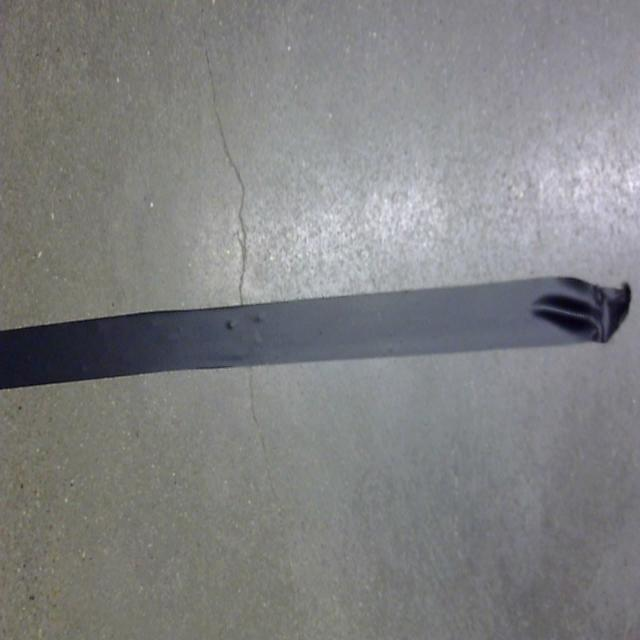tape: (0, 239, 637, 418)
